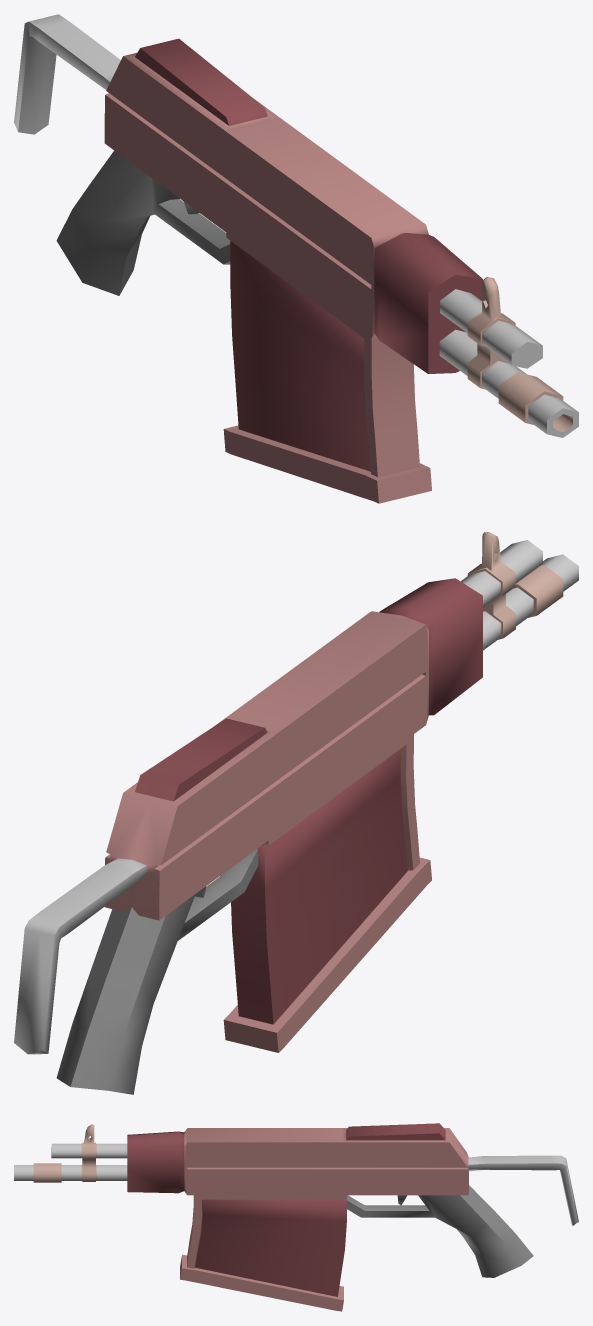
The model's file is Assault Harpoon (FBX).fbx.
The picture shows the model from 3 angles, top to bottom: view 1: azimuth 30°, elevation 25°; view 2: azimuth 150°, elevation 25°; view 3: azimuth 270°, elevation 25°; orthographic projection. The views are drawn at different scales.
Parts seen in each view (by area): view 1: Assault Upgrade, Gun Base; view 2: Assault Upgrade, Gun Base; view 3: Assault Upgrade, Gun Base.
Part boxes in pixels (box(x1,y1,x2,y2)): Assault Upgrade: box(14, 14, 578, 503); Gun Base: box(56, 150, 230, 295); Assault Upgrade: box(14, 532, 578, 1054); Gun Base: box(56, 849, 258, 1094); Assault Upgrade: box(14, 1123, 578, 1311); Gun Base: box(347, 1185, 533, 1277).
Bounding box in the file's own units: 6.07 × 36.18 × 103.
